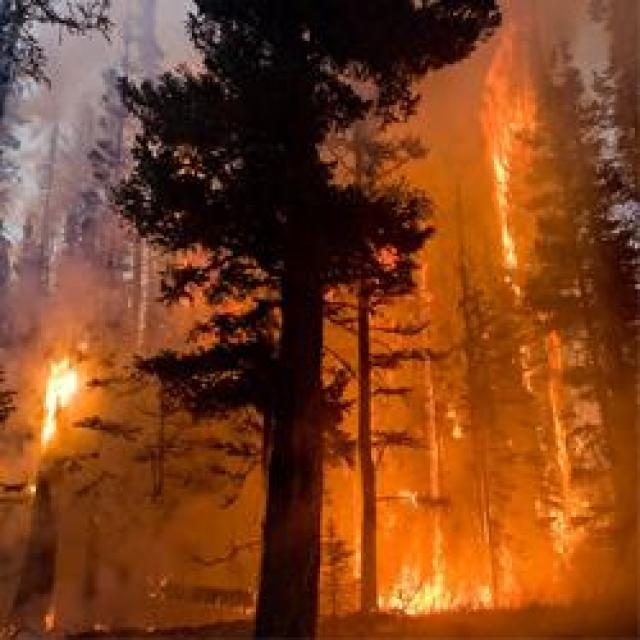Fire: (479, 43, 542, 290), (380, 548, 530, 624), (536, 488, 624, 560), (41, 348, 81, 466)
Smoke: (0, 0, 195, 351), (378, 84, 478, 527), (58, 458, 236, 636)
